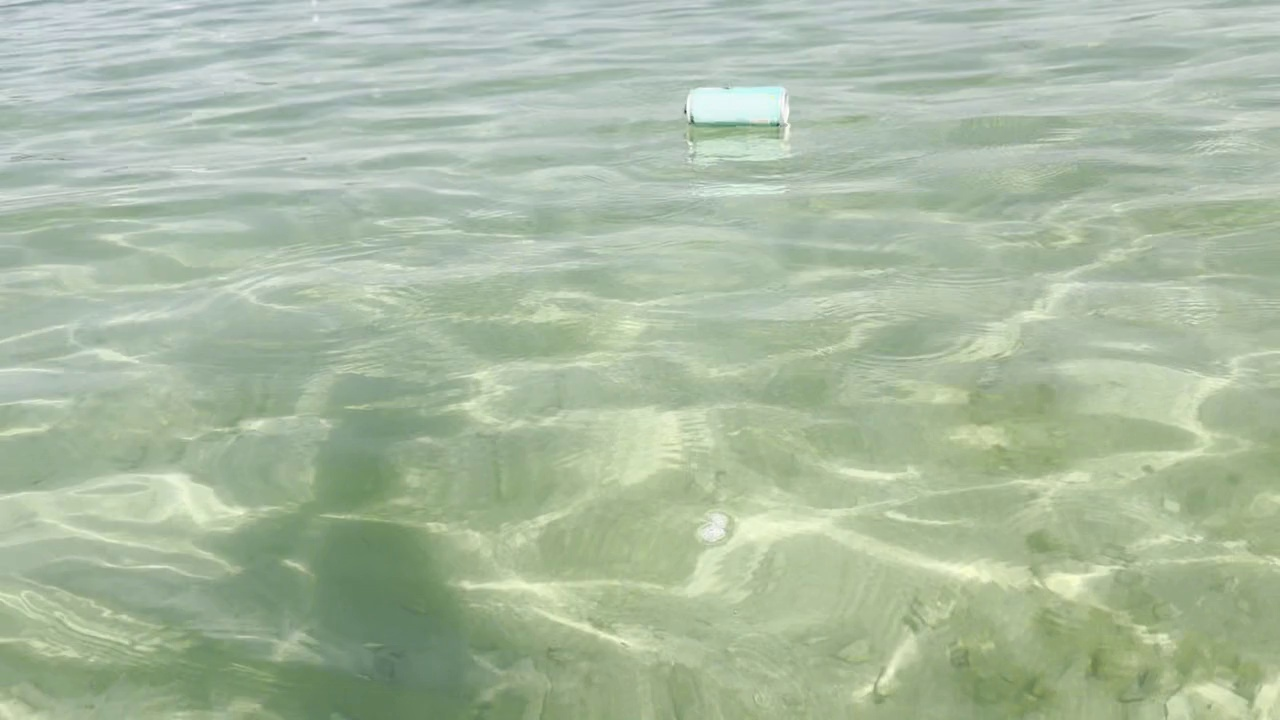debris: (678, 78, 799, 134)
